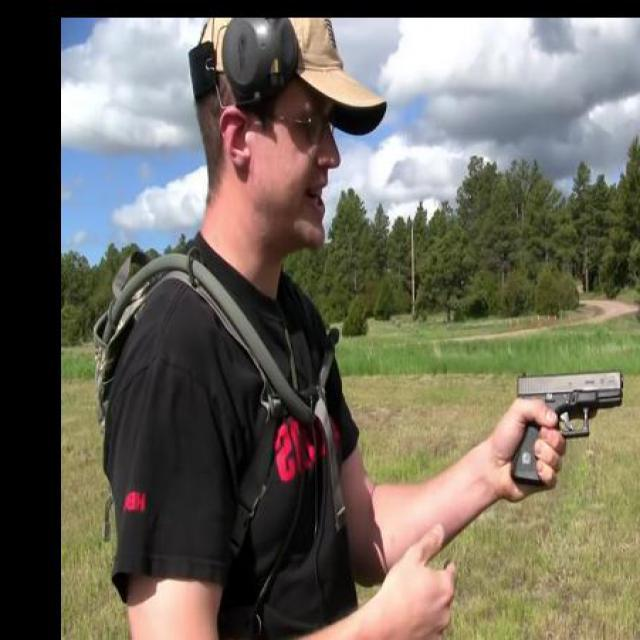Gun: (510, 365, 628, 485)
